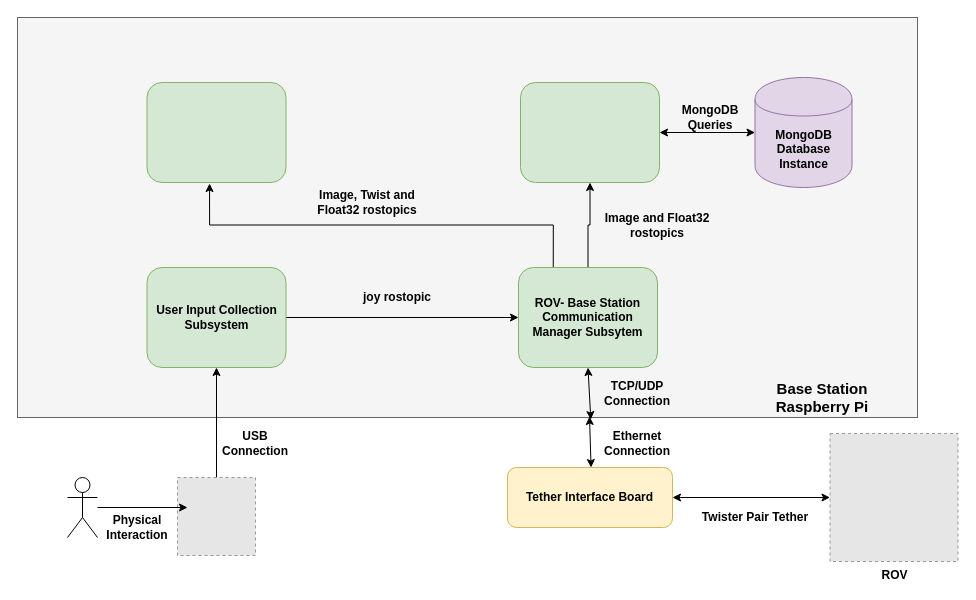
The diagram is 976 pixels wide and 600 high, and some of its shapes have lost their labels. Grey dashed boxes stand in for pictures. Each missing label, with the centre of its shape:
Data Archival Subsystem: (x=590, y=132)
HUD GUI Manager Subsystem: (x=216, y=132)
User: (x=82, y=507)
